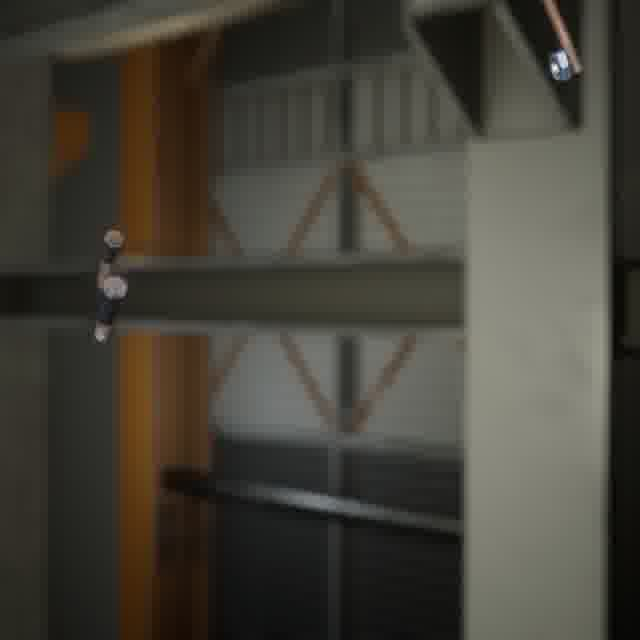bolt: (535, 0, 589, 81), (89, 270, 134, 345), (92, 225, 130, 291)
nut: (544, 45, 577, 85)
